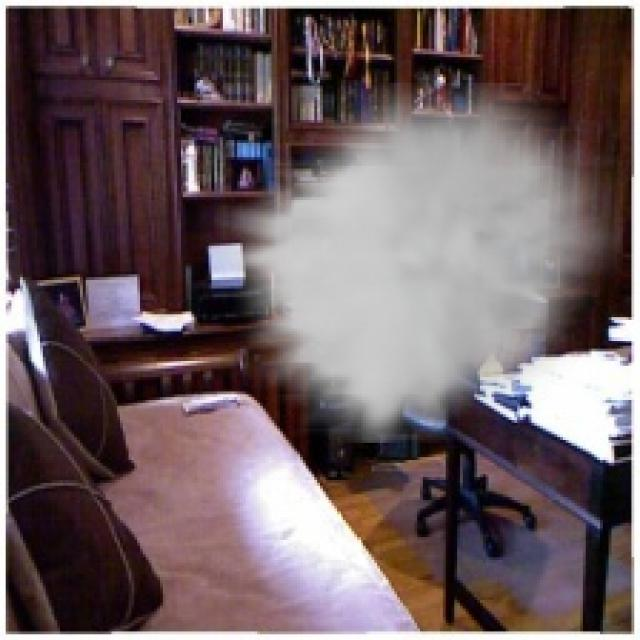smoke: (214, 83, 623, 443)
